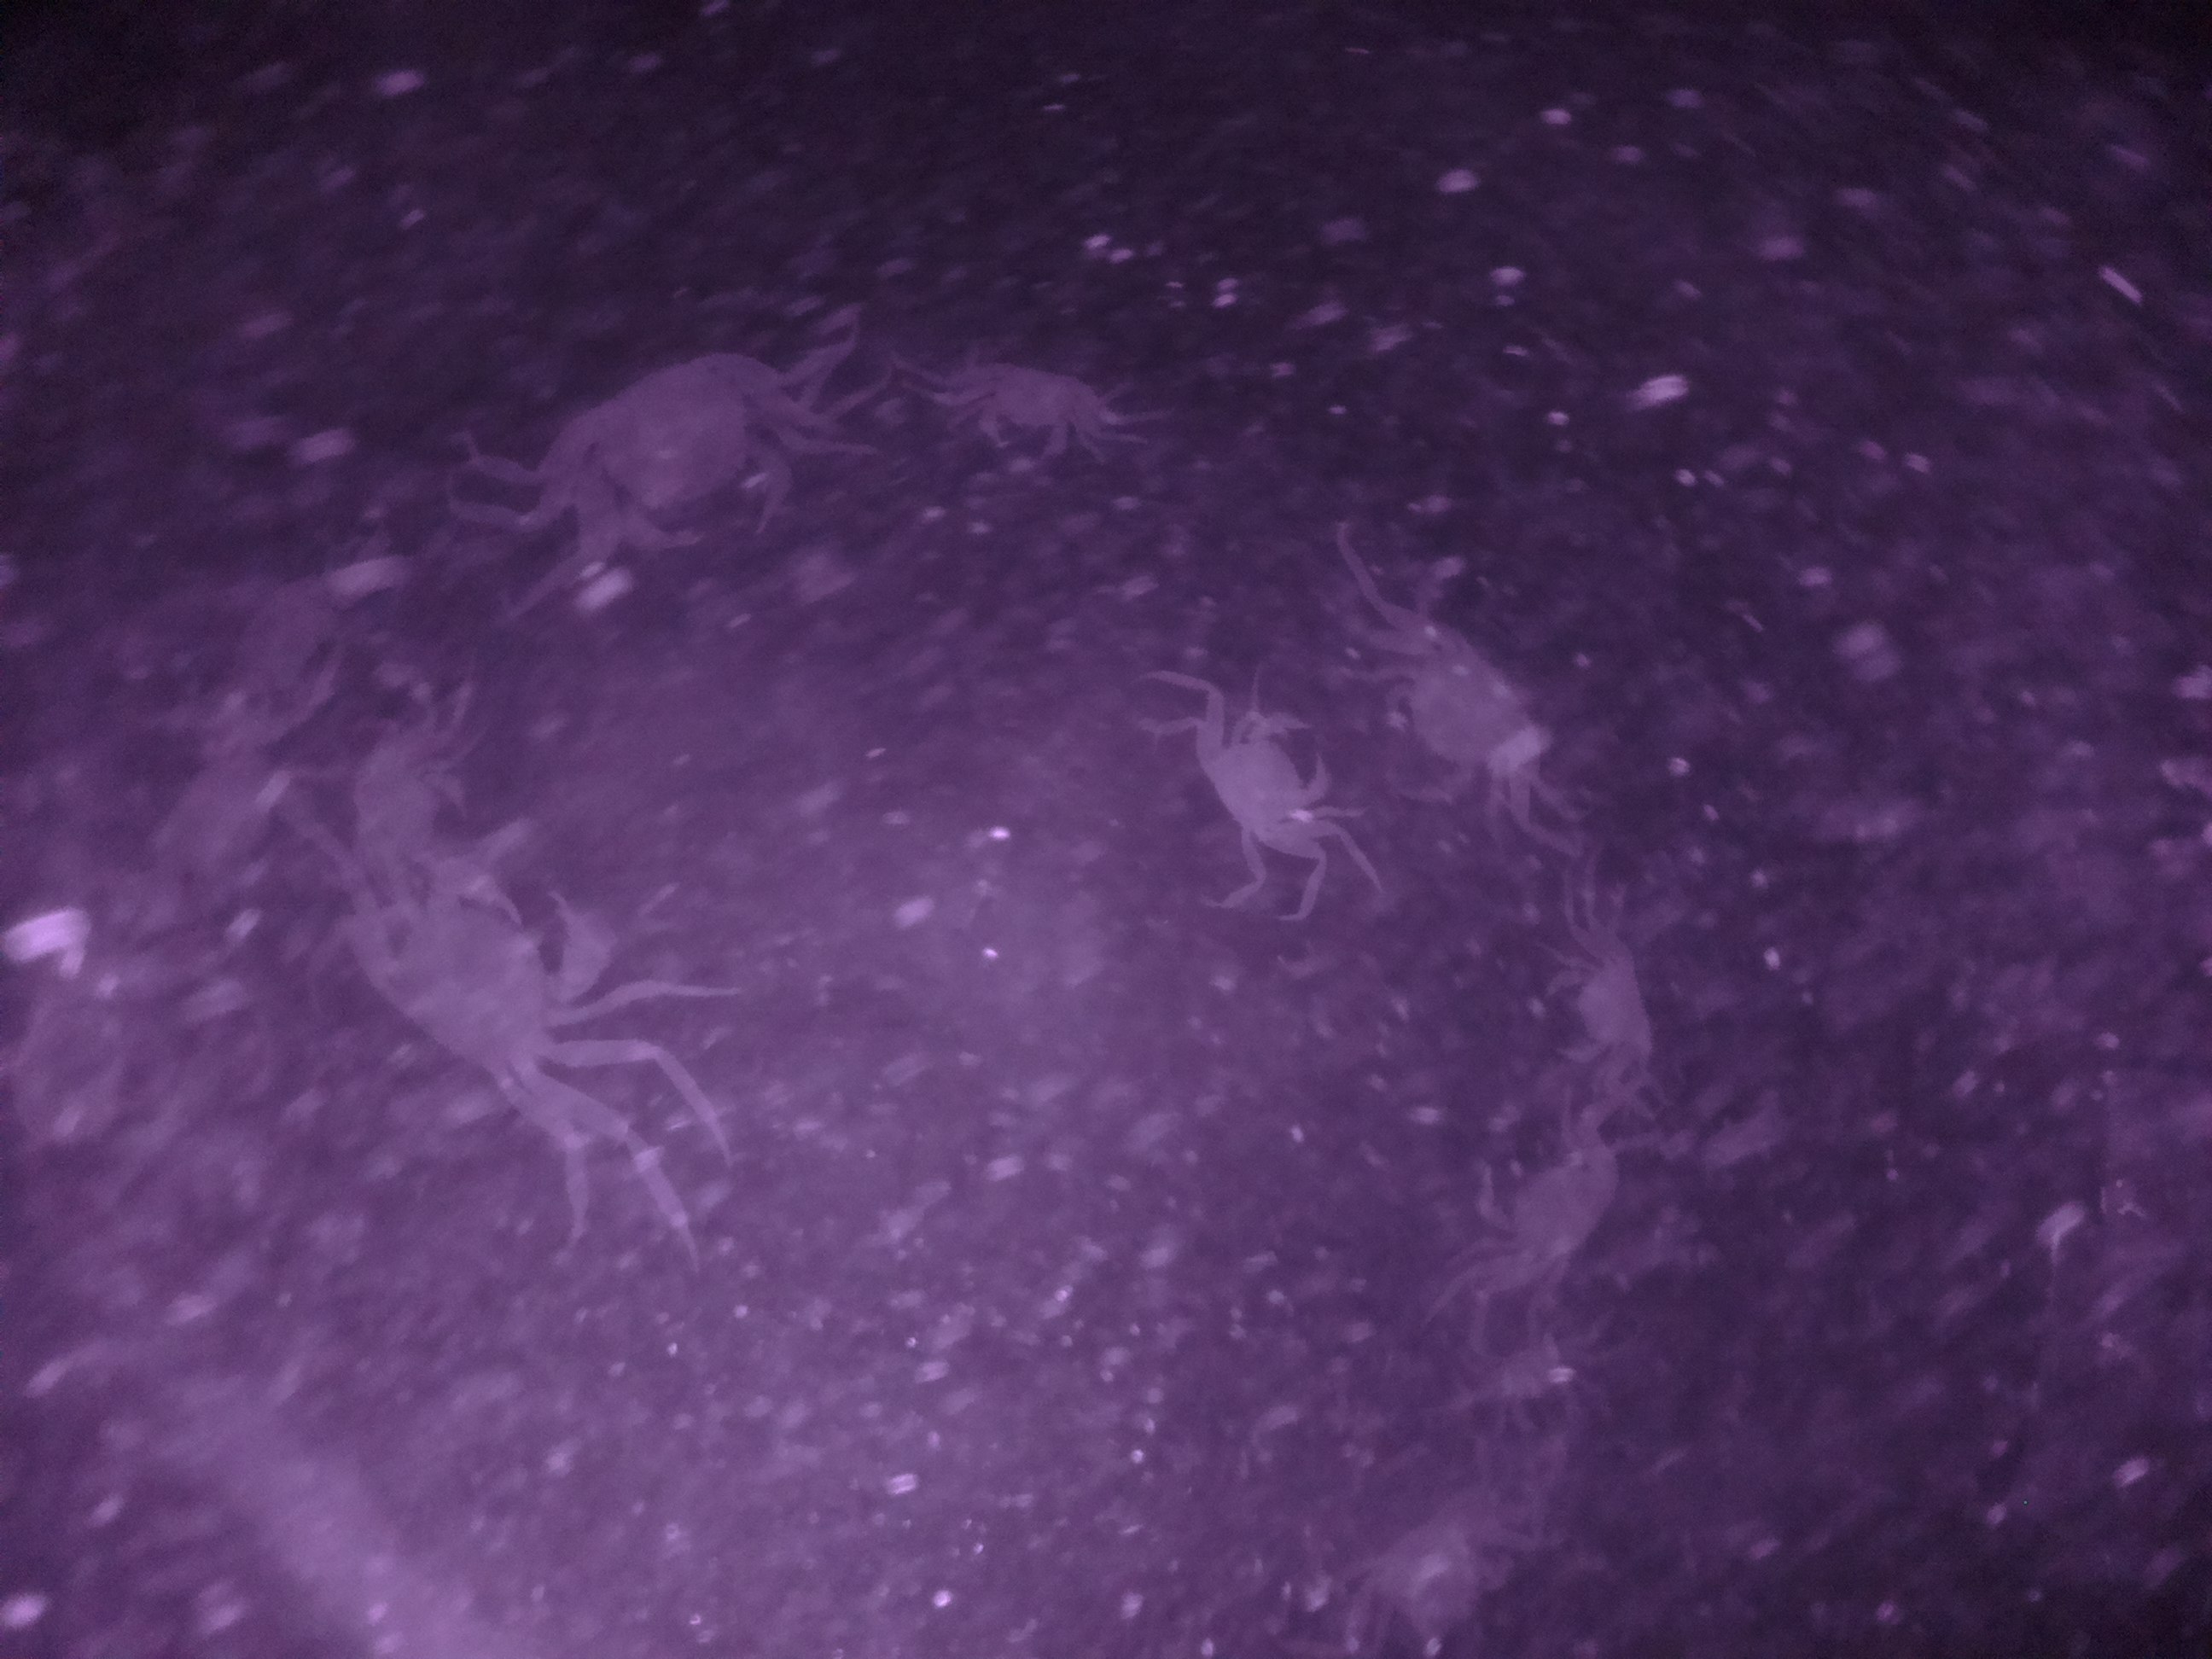Crab: (563, 336, 822, 589), (1371, 606, 1561, 816), (1460, 1096, 1630, 1307), (1197, 678, 1350, 897), (951, 347, 1127, 477), (1534, 927, 1674, 1080)
